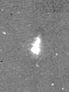Halpha: (20, 28, 48, 69)
